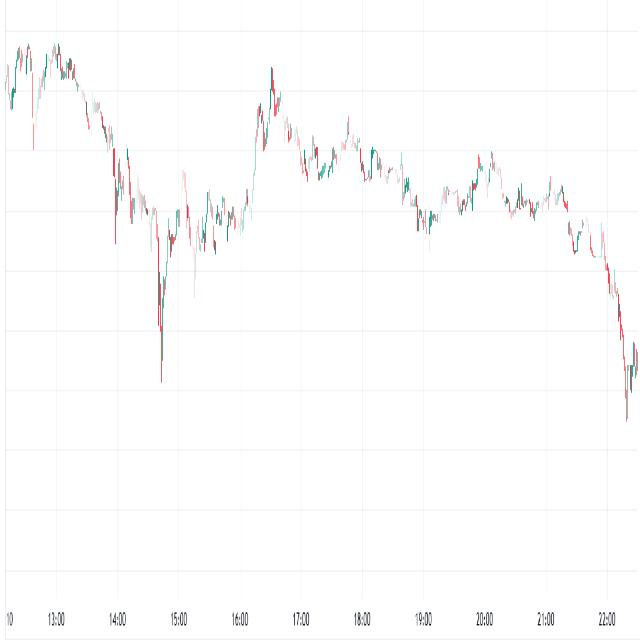Rounding-Bottom: (95, 75, 264, 365), (373, 128, 481, 264), (286, 108, 349, 195)
Rounding-Top: (32, 36, 92, 126)
